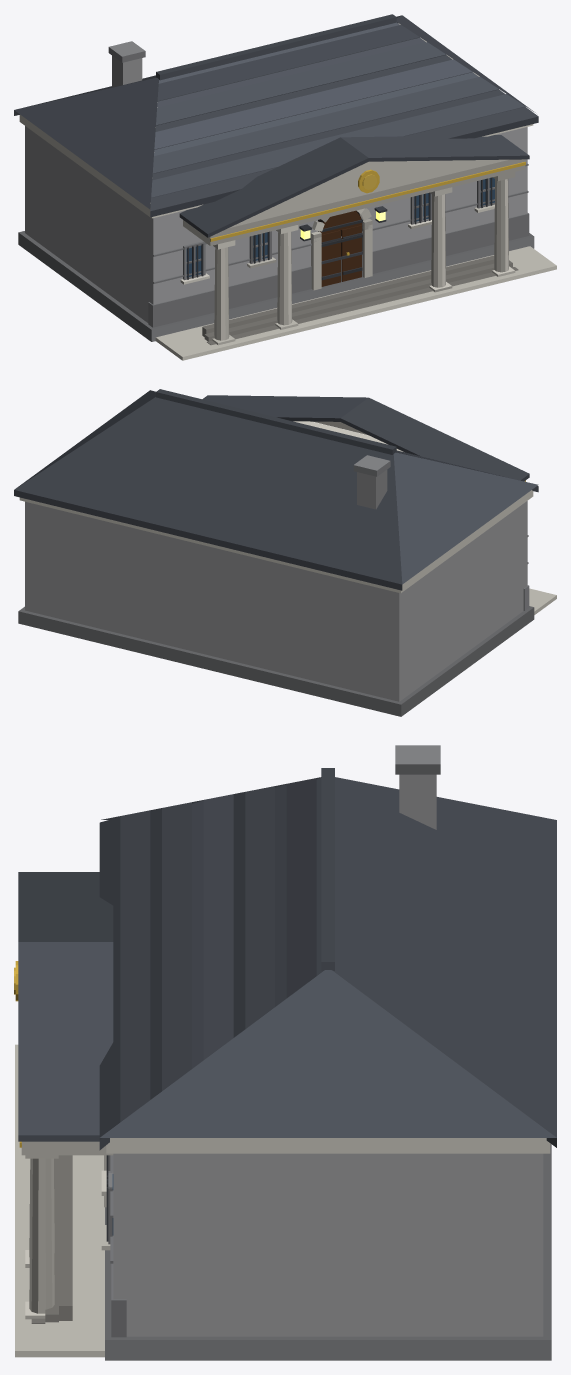
The model's file is village_bank.glb.
3 renders of one model, top to bottom at view 1: azimuth 30°, elevation 25°; view 2: azimuth 150°, elevation 25°; view 3: azimuth 270°, elevation 25°, orthographic. The views are drawn at different scales.
Visible parts, largest first — view 1: village_bank_body, village_bank_ground; view 2: village_bank_body, village_bank_ground; view 3: village_bank_body, village_bank_ground.
Boxes of the visible parts, left/top/right/bottom form: village_bank_body: left=14, top=14, right=538, bottom=345; village_bank_ground: left=155, top=246, right=556, bottom=360; village_bank_body: left=14, top=389, right=538, bottom=716; village_bank_ground: left=529, top=588, right=556, bottom=614; village_bank_body: left=14, top=745, right=556, bottom=1360; village_bank_ground: left=15, top=1044, right=104, bottom=1357.
Size of the model in its own units: 16.51 by 8.45 by 11.92.
